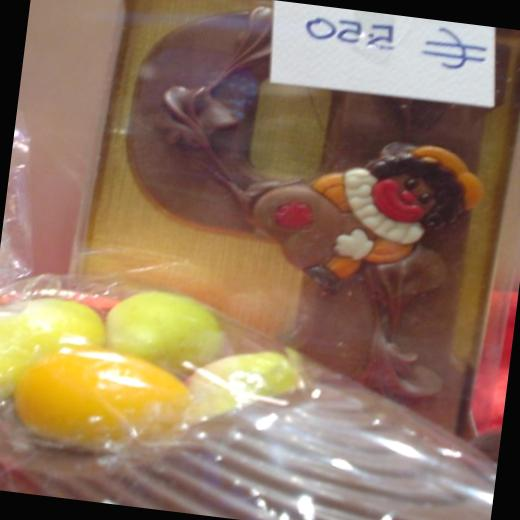Apple: (100, 284, 228, 382)
